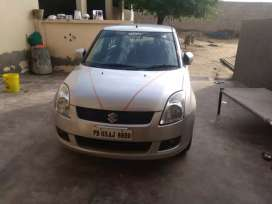license_plate: (92, 124, 132, 139)
